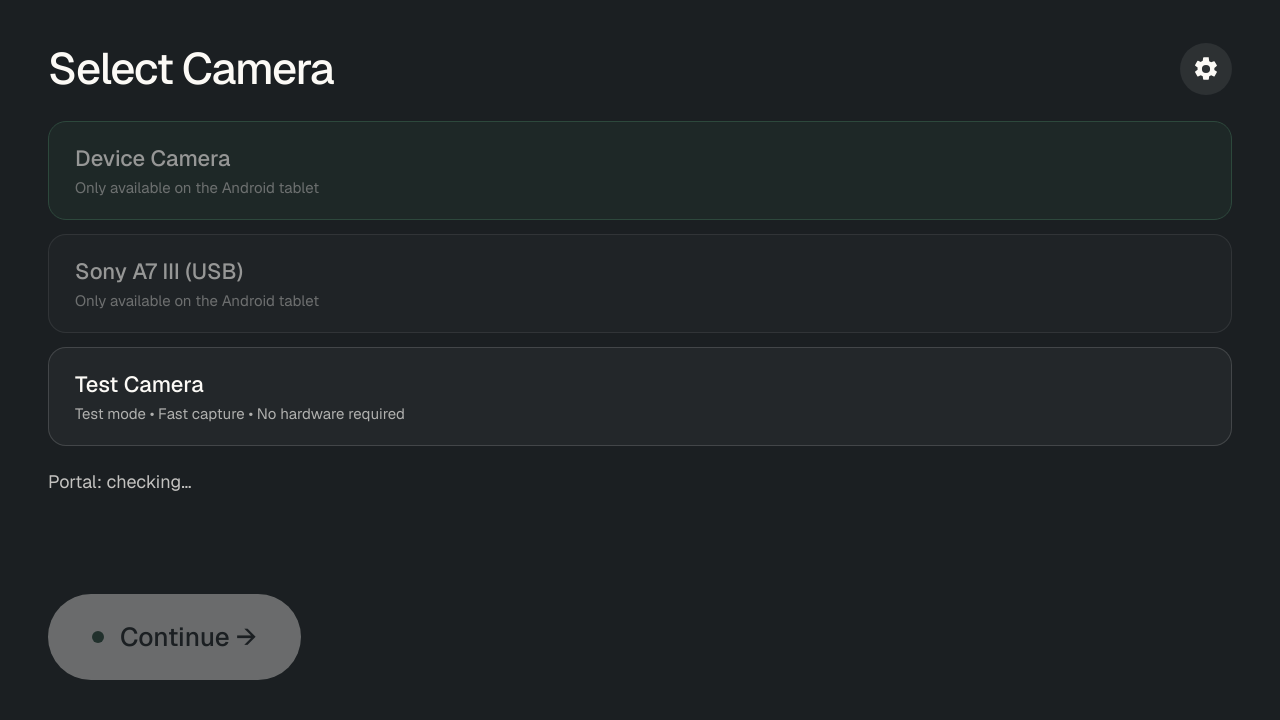
CameraSelect › an available camera can be selected; the choice goes to the backend
Click the button "Test Camera": {"x": 139, "y": 384} [48, 347, 1232, 446]
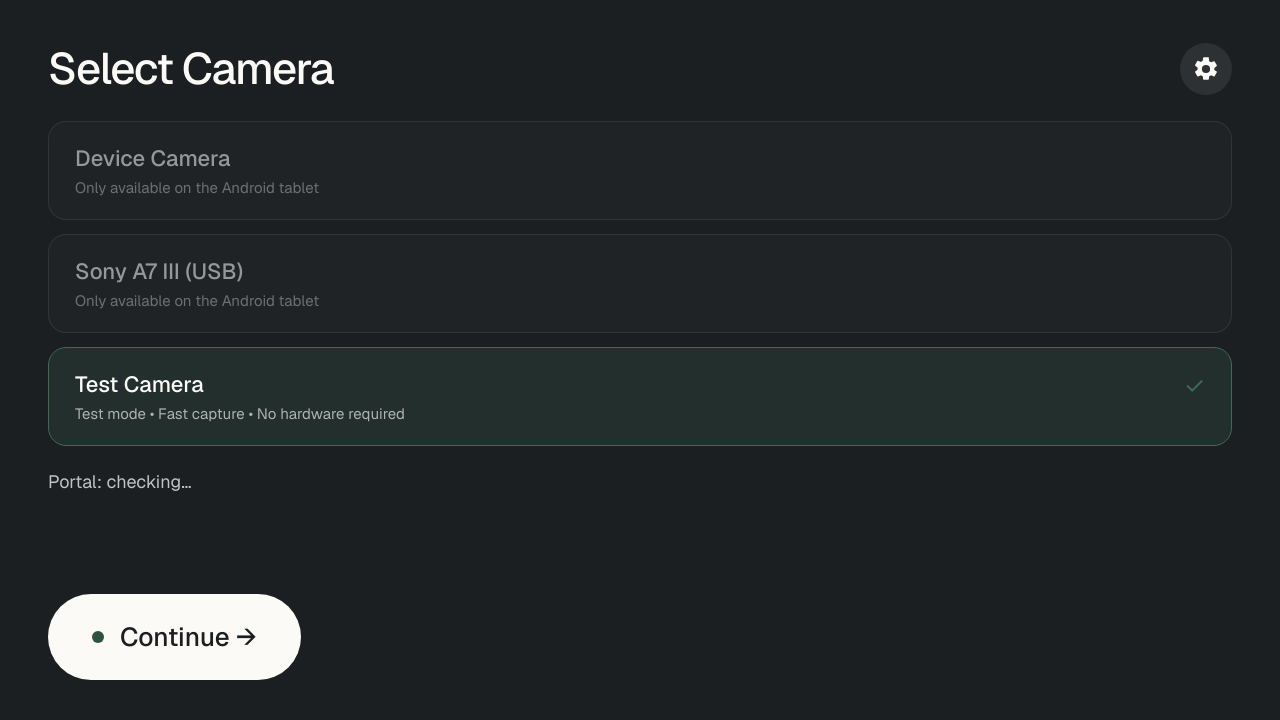
Now the picture named "Selected" is shown, box [1184, 370, 1205, 401]
